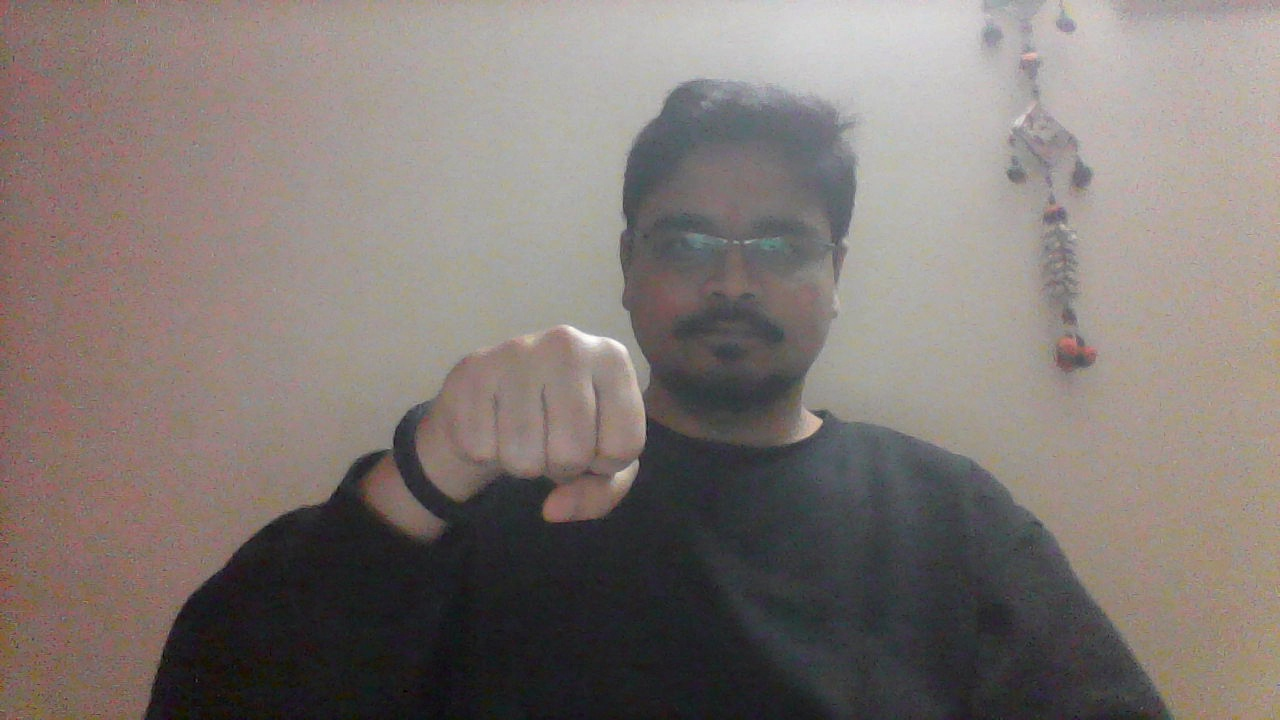Yes: (427, 317, 653, 526)
